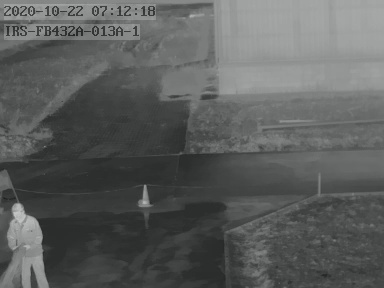person: (3, 200, 49, 288)
